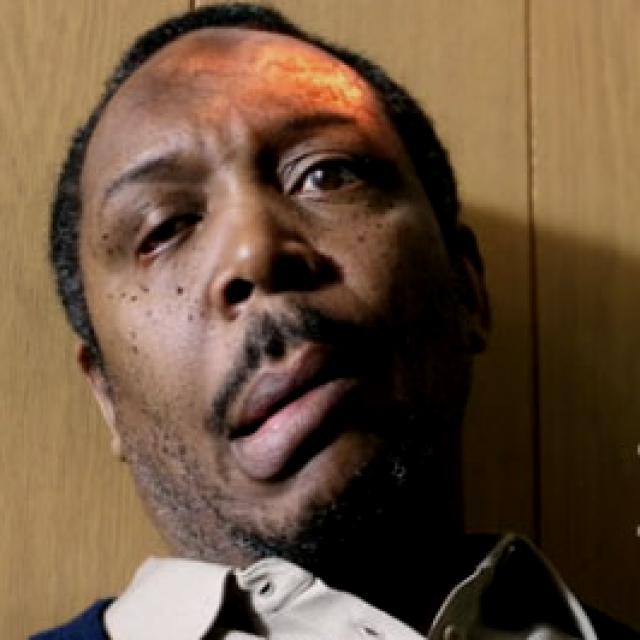stroke_face: (60, 22, 478, 559)
